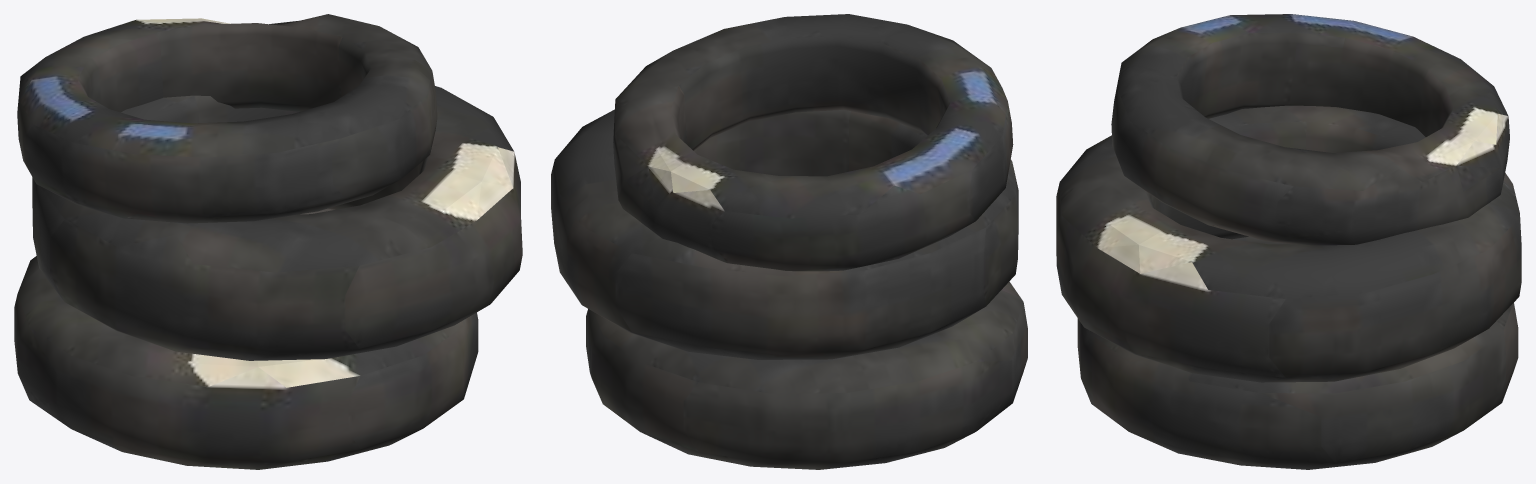
The model's file is JV15_worn_tyres_v3.glb.
3 views of the same model, side by side, from view 1: azimuth 30°, elevation 25°; view 2: azimuth 150°, elevation 25°; view 3: azimuth 270°, elevation 25° (orthographic). The views are drawn at different scales.
Parts seen in each view (by area): view 1: Salvaged tyre stack; view 2: Salvaged tyre stack; view 3: Salvaged tyre stack.
Boxes of the visible parts, x1=… form: Salvaged tyre stack: x1=14, y1=14, x2=522, y2=469; Salvaged tyre stack: x1=551, y1=14, x2=1027, y2=469; Salvaged tyre stack: x1=1056, y1=14, x2=1521, y2=469.
Bounding box in the file's own units: 0.7 × 0.4859 × 0.6621.
4 materials, 4 textured.
